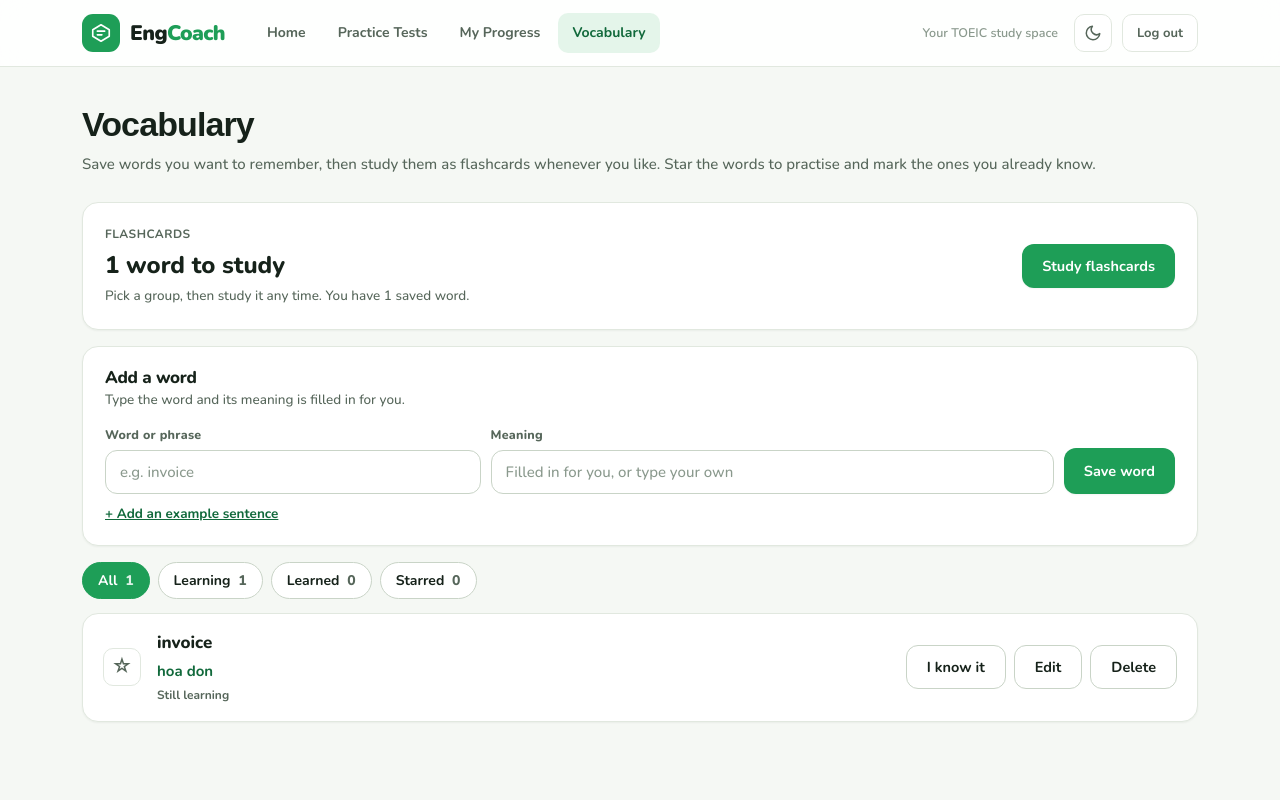
Test: Vocabulary page › asks for the word and meaning, and shows the server message for a duplicate
Click the button "Save word" at (1119, 471), box [1064, 448, 1175, 494]
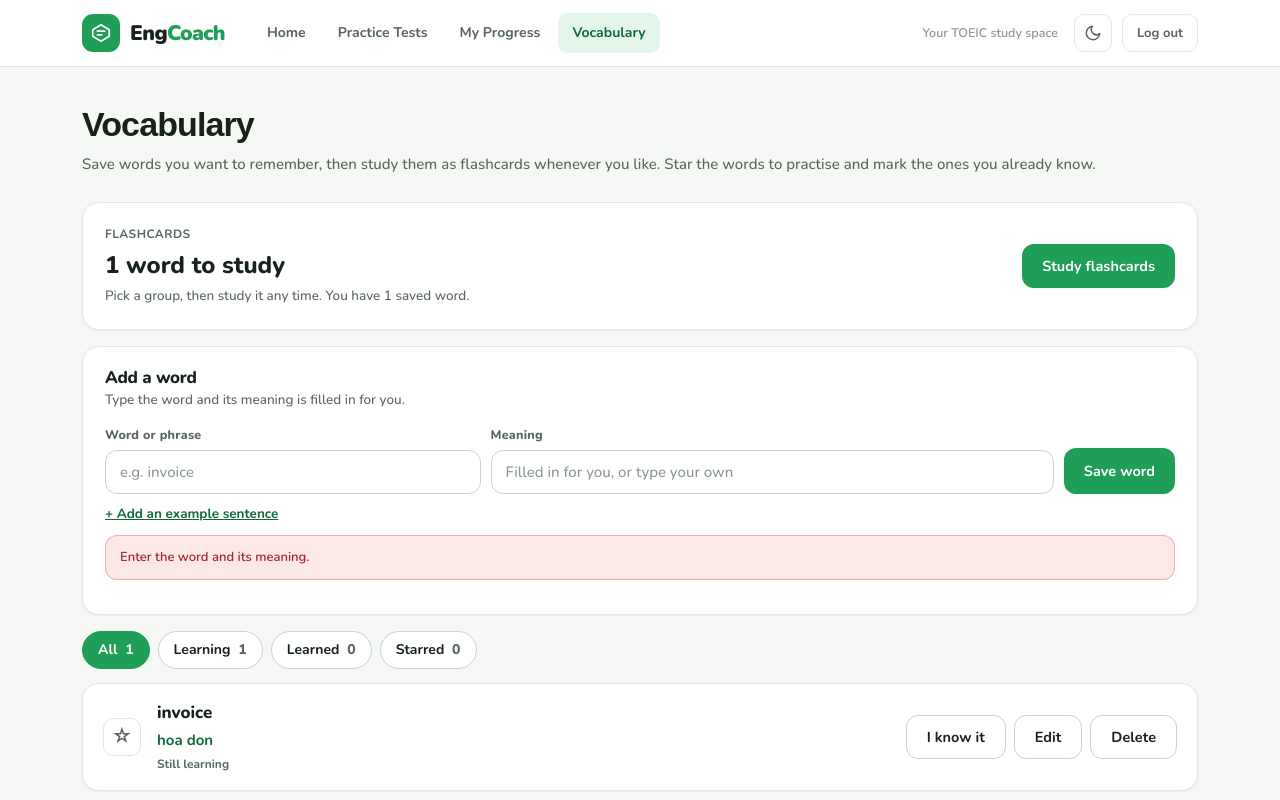
Expected: the message reads "Enter the word and its meaning.", [120, 548, 309, 566]
Type "Invoice" into the field labelled "Word or phrase" at (293, 472), box [105, 450, 480, 494]
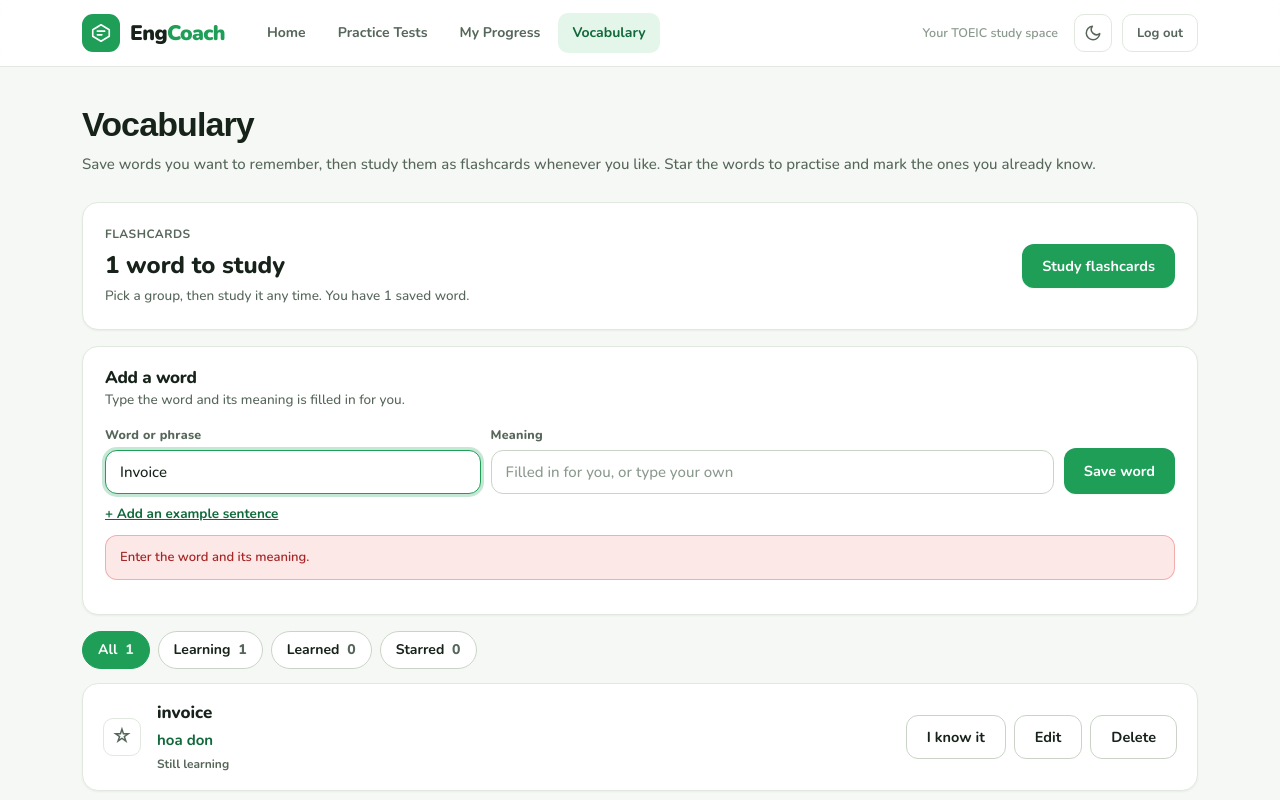
Type "again" into the field labelled "Meaning" at (772, 472), box [490, 450, 1054, 494]
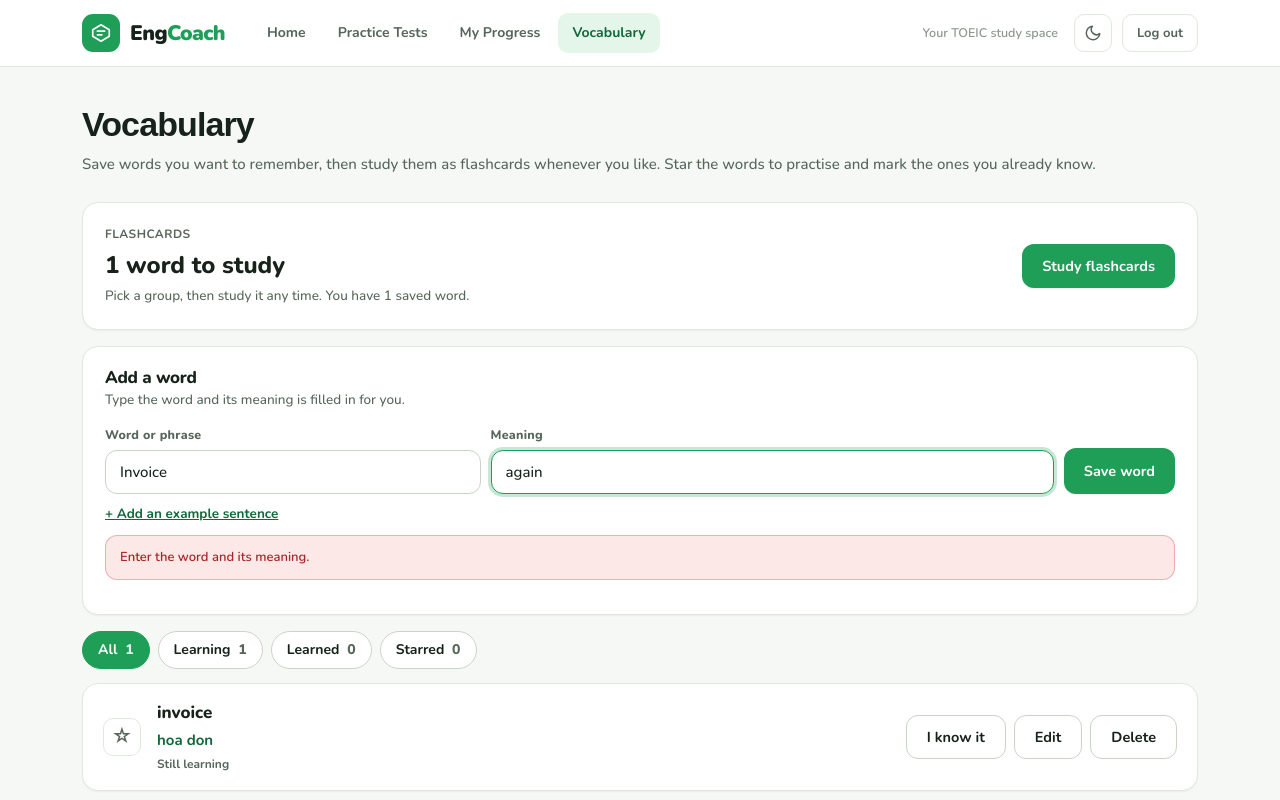
Click the button "Save word" at (1119, 471), box [1064, 448, 1175, 494]
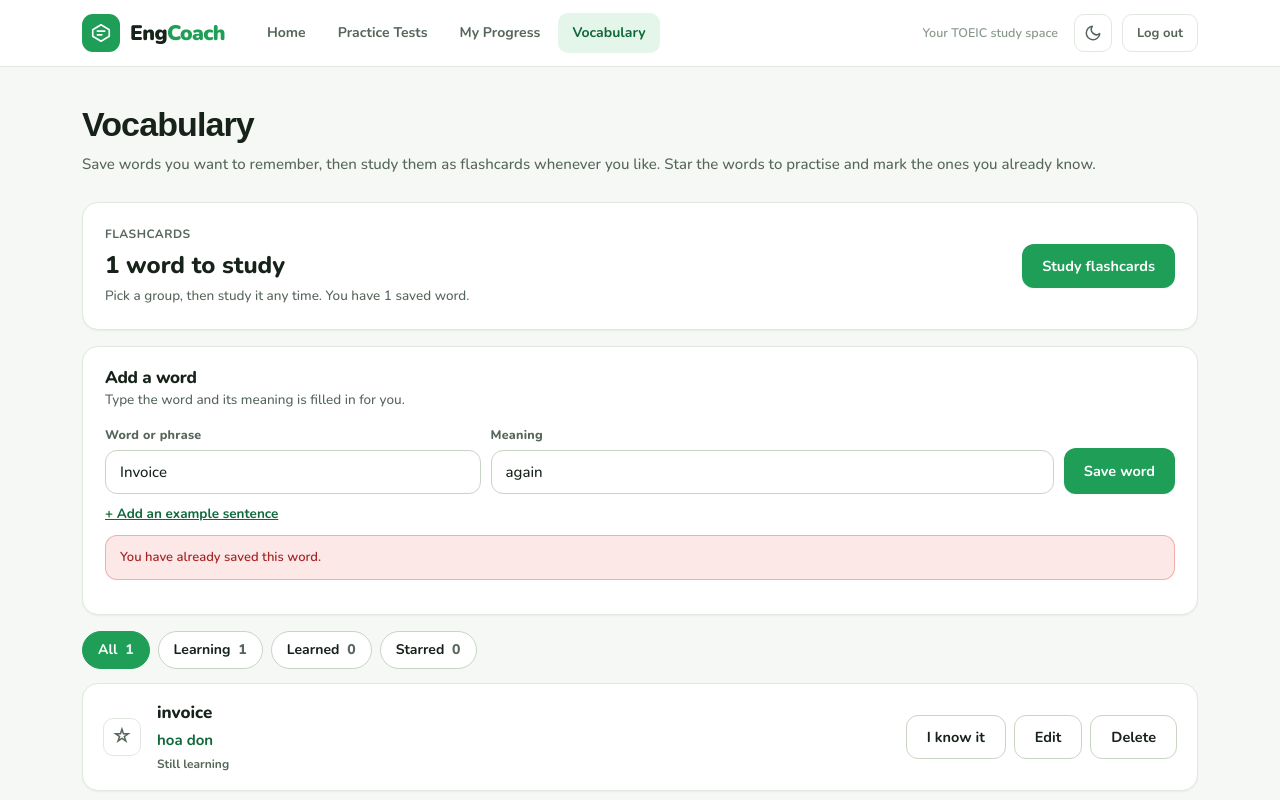
Expected: the text "You have already saved this word." is shown, [105, 535, 1175, 580]
